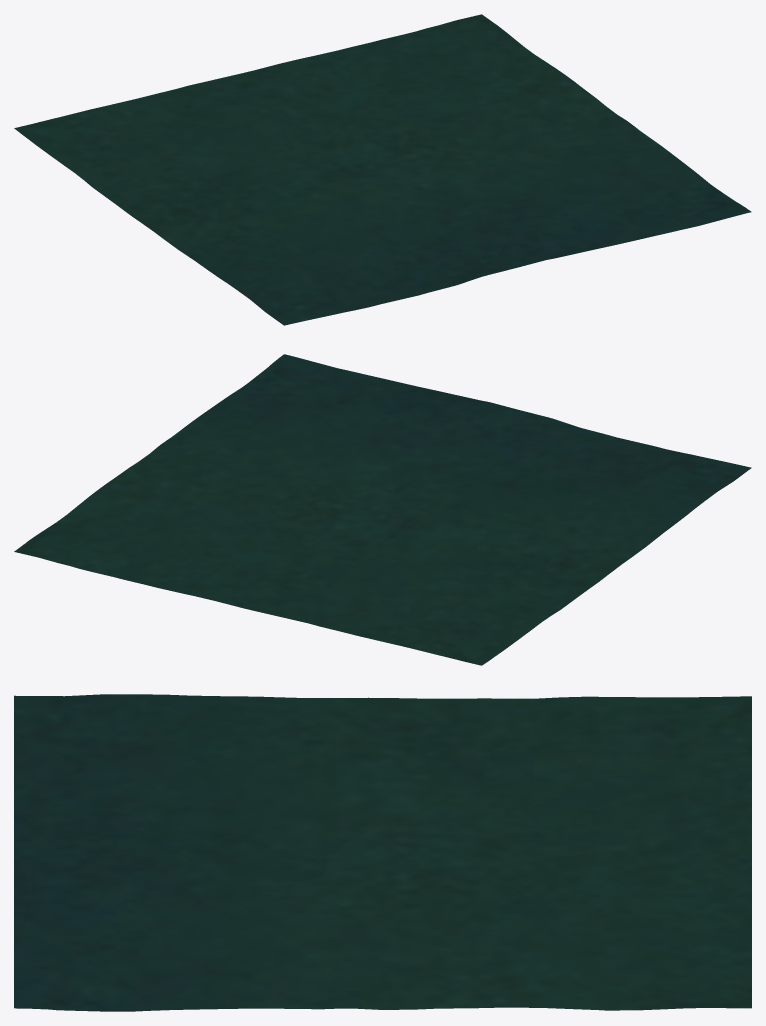
The picture shows the model from 3 angles, top to bottom: view 1: azimuth 30°, elevation 25°; view 2: azimuth 150°, elevation 25°; view 3: azimuth 270°, elevation 25°; orthographic projection. The views are drawn at different scales.
Bounding box in the file's own units: 52.22 × 0.537 × 52.22.
Materials: 2 (2 with a texture image).
